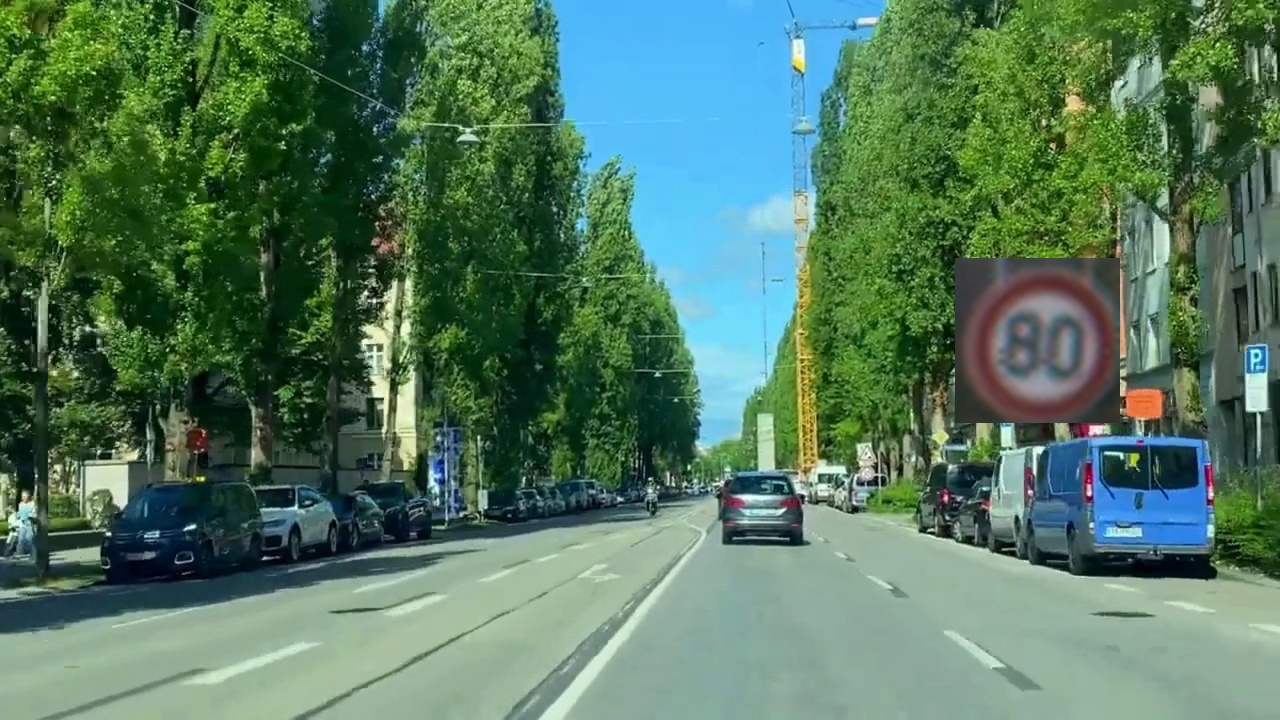Speed 80: (955, 258, 1120, 423)
